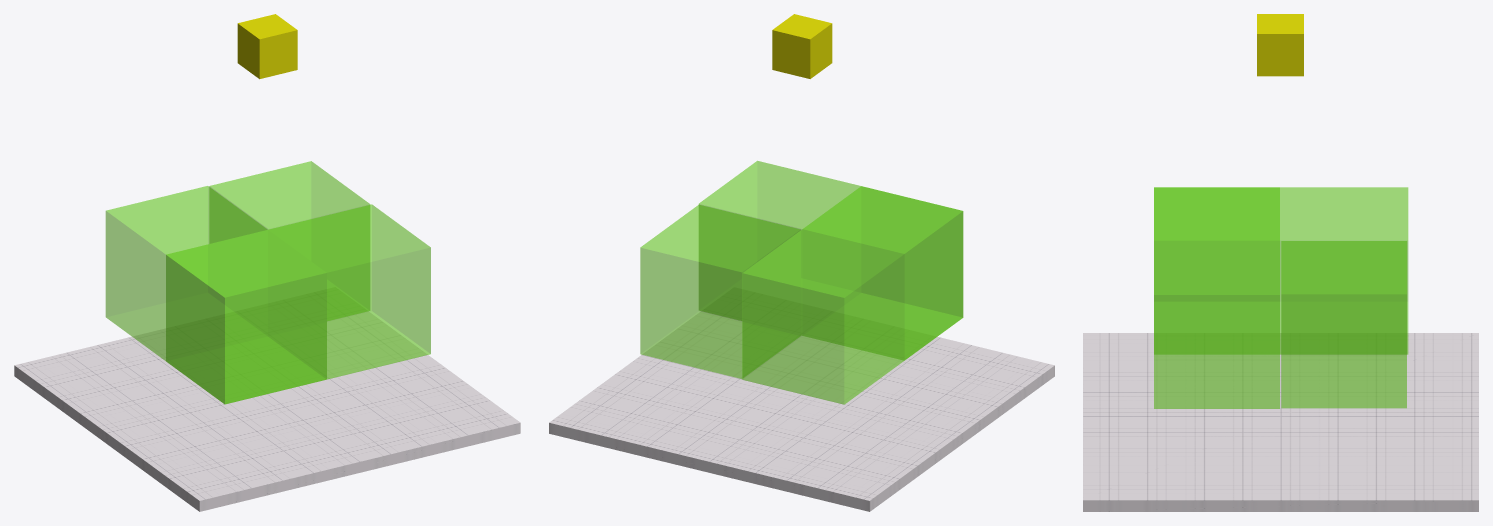
File: Triggers.glb
3 views of the same model, side by side, from view 1: azimuth 30°, elevation 25°; view 2: azimuth 150°, elevation 25°; view 3: azimuth 270°, elevation 25° (orthographic). The views are drawn at different scales.
Visible parts, largest first — view 1: Floor, ChildA, ChildB, Standalone, Cube; view 2: Floor, ChildA, ChildB, Standalone, Cube; view 3: Floor, ChildB, ChildA, Standalone, Cube.
Part boxes in pixels (box(x1,y1,x2,y2)): Floor: box(14, 287, 520, 511); ChildA: box(166, 204, 430, 404); ChildB: box(105, 186, 326, 403); Standalone: box(209, 161, 369, 320); Cube: box(237, 14, 297, 79); Floor: box(549, 288, 1054, 511); ChildA: box(699, 161, 963, 360); ChildB: box(742, 186, 962, 404); Standalone: box(640, 204, 800, 378); Cube: box(772, 14, 832, 78); Floor: box(1083, 333, 1478, 511); ChildB: box(1154, 187, 1408, 354); ChildA: box(1154, 187, 1279, 408); Standalone: box(1281, 241, 1406, 408); Cube: box(1257, 14, 1303, 76).
Size of the model in its own units: 1.75 by 1.97 by 1.75.
Materials: 3 (1 with a texture image).
